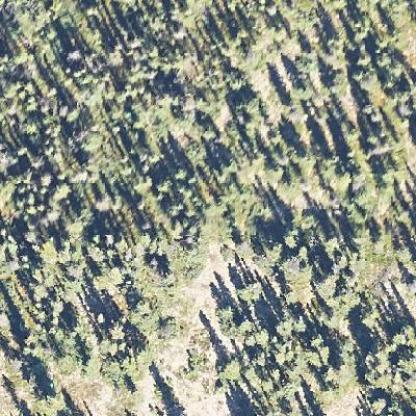tree-top: (358, 339, 393, 385), (90, 263, 124, 292), (287, 144, 318, 170), (214, 352, 243, 378), (254, 235, 284, 260), (235, 276, 261, 304), (74, 125, 102, 151), (323, 61, 348, 90), (38, 380, 66, 404), (105, 349, 131, 374), (353, 302, 380, 326), (16, 114, 42, 138), (106, 315, 129, 342), (289, 77, 315, 99), (46, 178, 70, 201), (153, 263, 179, 284), (90, 189, 112, 211), (46, 291, 66, 314), (317, 308, 340, 328), (37, 169, 55, 187)
